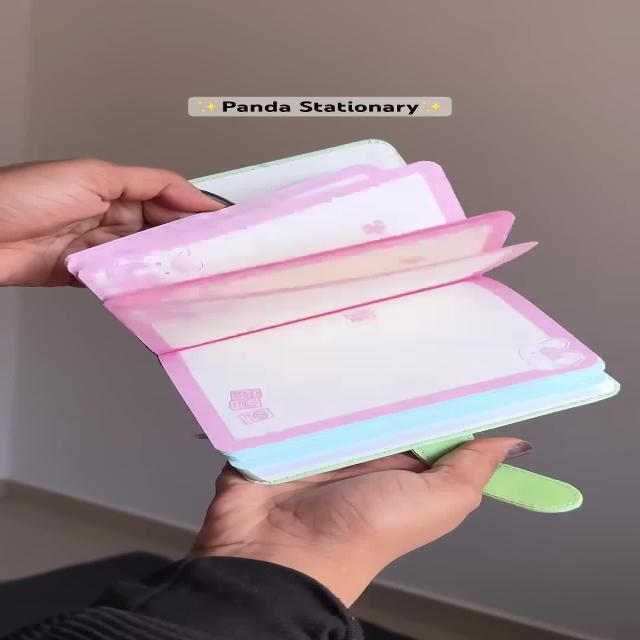notebook: (80, 140, 619, 518)
